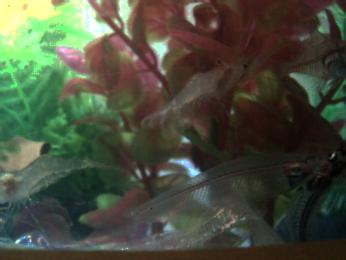X-ray fish: (278, 29, 346, 81)
glassfish: (123, 151, 336, 212)
siberian prawn: (143, 57, 249, 130), (1, 151, 107, 204)
